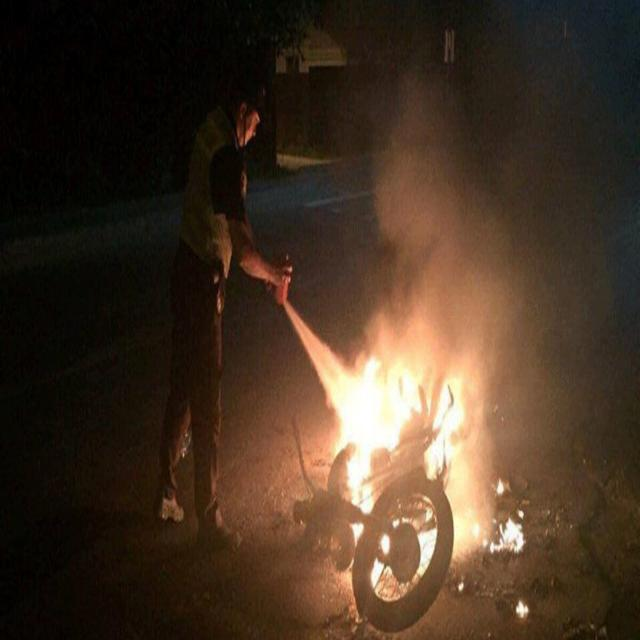Fire: (334, 360, 422, 507), (428, 374, 466, 476), (490, 516, 524, 553)
Smoke: (356, 33, 608, 463)
